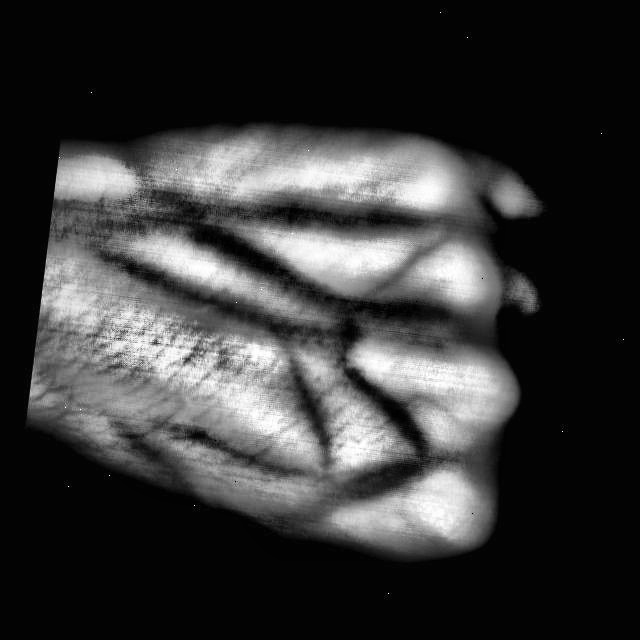Vein: (166, 203, 342, 318)
